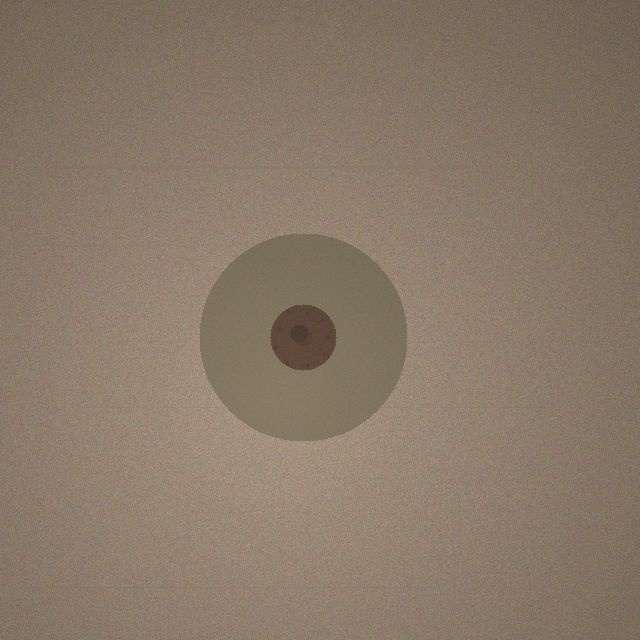cold_weld: (199, 233, 407, 441)
